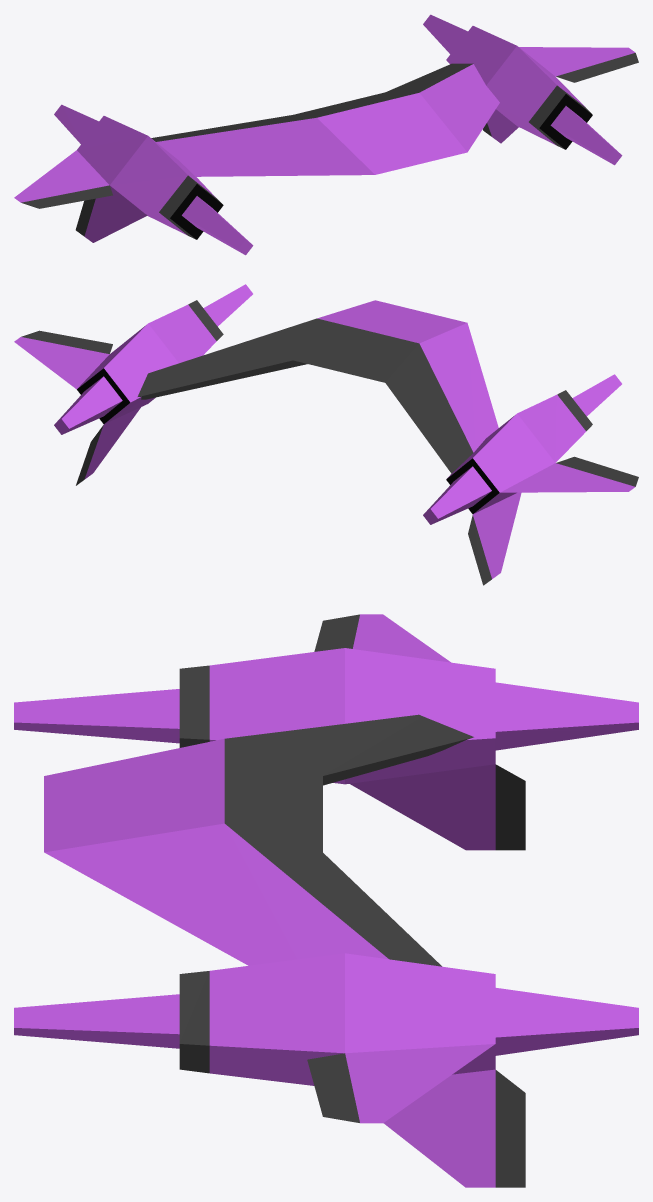
The model's file is robotWing.FBX.
3 views of the same model, one above another, from view 1: azimuth 30°, elevation 25°; view 2: azimuth 150°, elevation 25°; view 3: azimuth 270°, elevation 25° (orthographic). The views are drawn at different scales.
Visible parts, largest first — view 1: VIFS002, VIFS001, VIFS004; view 2: VIFS002, VIFS001, VIFS004; view 3: VIFS002, VIFS001.
Part boxes in pixels (x1,y1,x2,y2): VIFS002: (14,14,635,255); VIFS001: (21,53,638,239); VIFS004: (170,94,592,239); VIFS002: (14,284,634,578); VIFS001: (21,300,638,585); VIFS004: (77,368,499,513); VIFS002: (14,614,638,1187); VIFS001: (179,614,525,1187).
Bounding box in the file's own units: 1.68 × 0.366 × 0.872.
